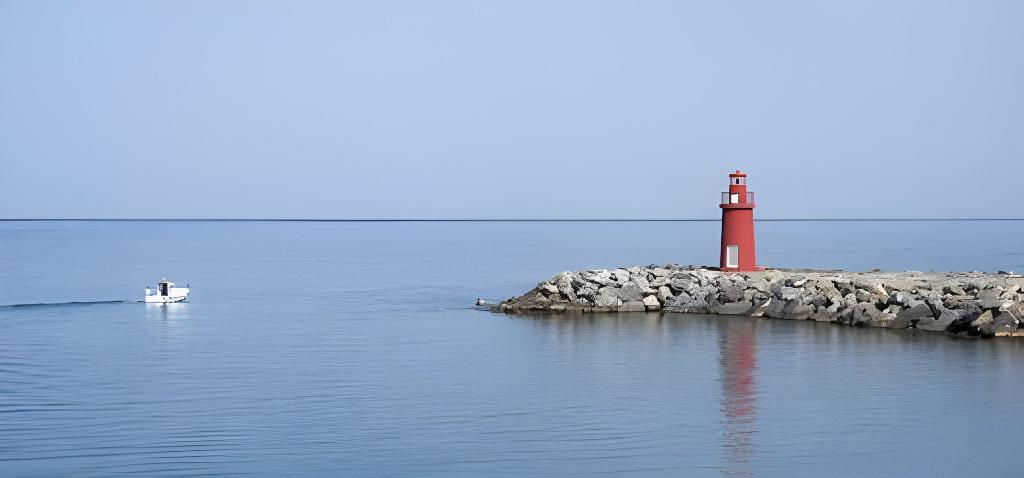PassengerShip: (140, 278, 194, 306)
